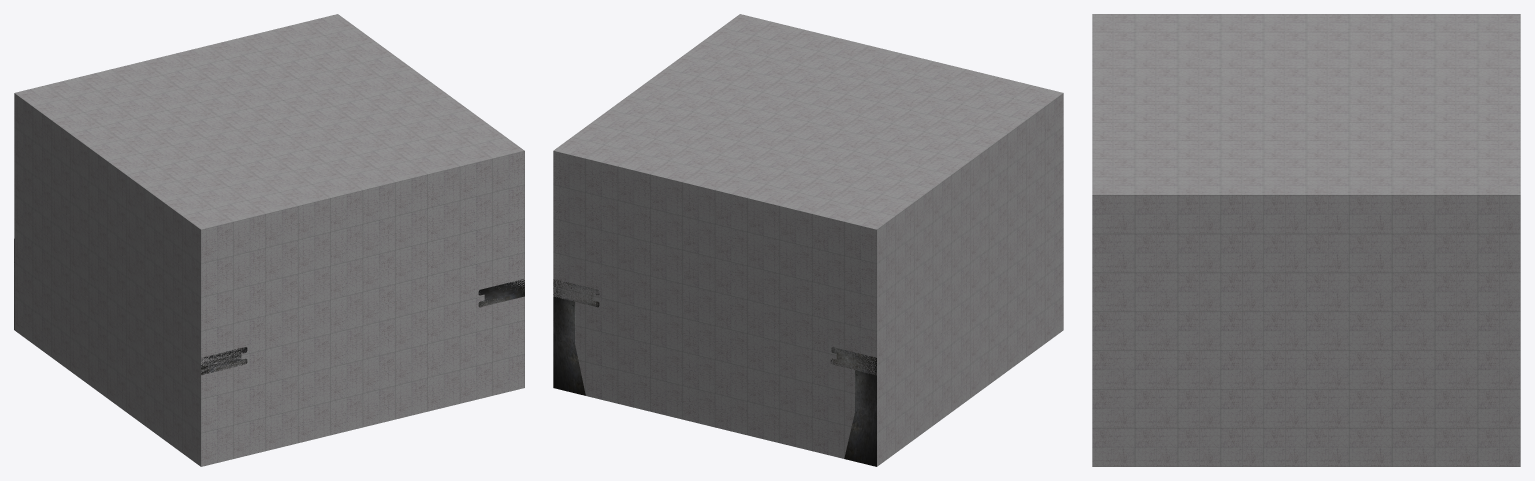
Rendered from Lab_geo.fbx.
3 renders of one model, left to right at view 1: azimuth 30°, elevation 25°; view 2: azimuth 150°, elevation 25°; view 3: azimuth 270°, elevation 25°, orthographic. The views are drawn at different scales.
Visible parts, largest first — view 1: Walls_Lab; view 2: Walls_Lab; view 3: Walls_Lab.
Boxes of the visible parts, x1,y1,x2,y2 form: Walls_Lab: (14, 14, 524, 466); Walls_Lab: (553, 14, 1063, 466); Walls_Lab: (1092, 14, 1520, 466).
Size of the model in its own units: 2499 by 1750 by 2499.
10 materials, 5 textured.
